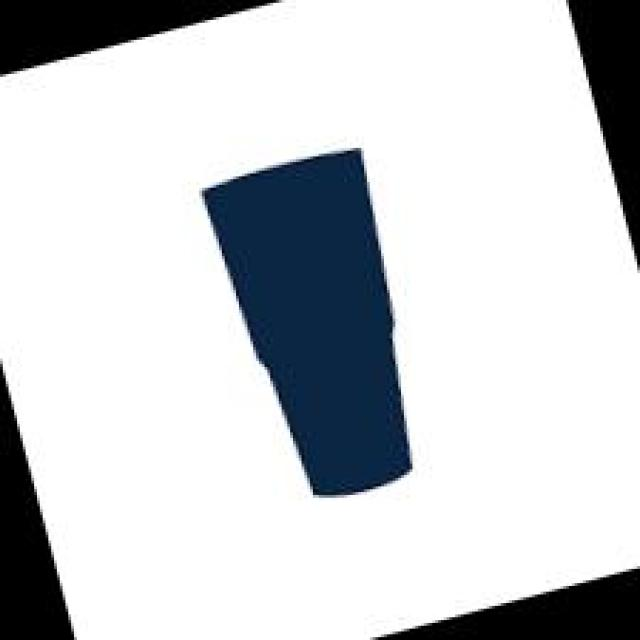bottle: (183, 128, 460, 521)
